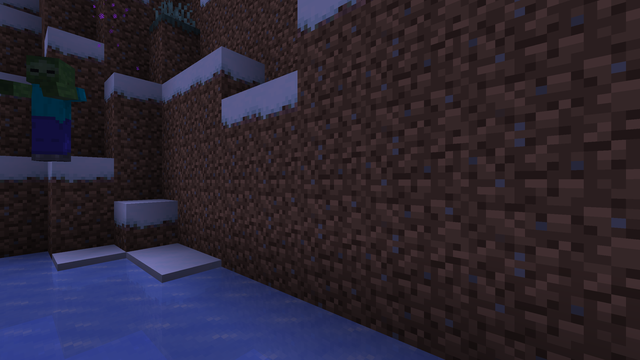zombies: (29, 54, 74, 161)
